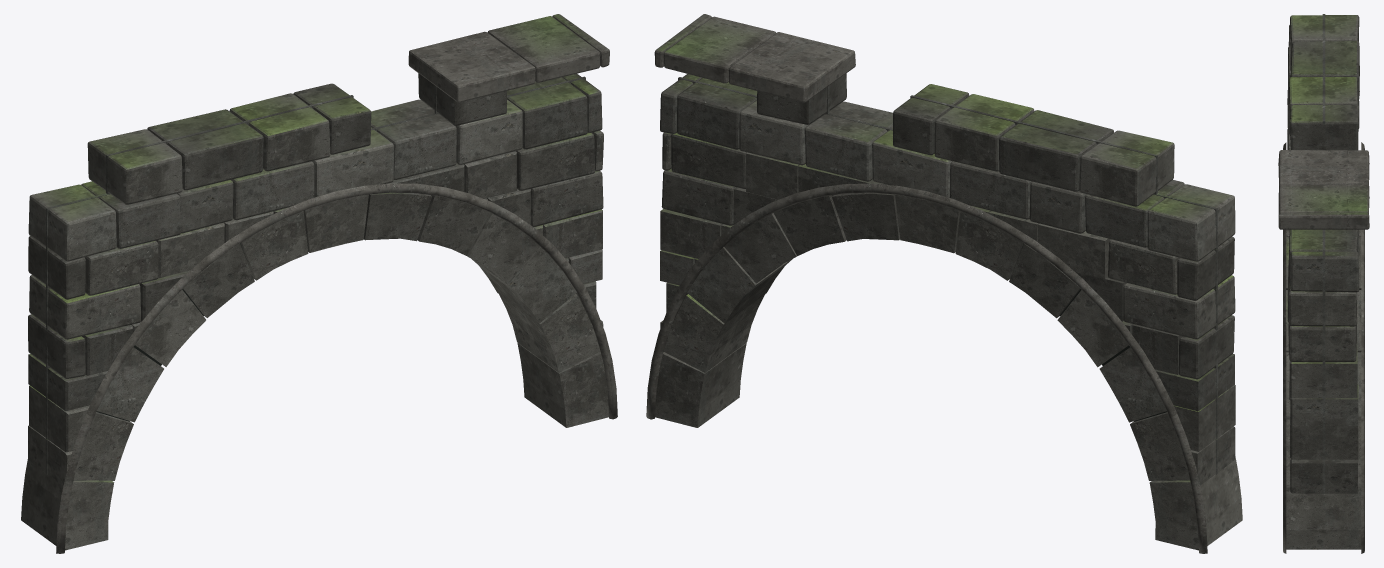
The model's file is ER_Ecoincon_Grand_Arc_8m.gltf.
3 views of the same model, side by side, from view 1: azimuth 30°, elevation 25°; view 2: azimuth 150°, elevation 25°; view 3: azimuth 270°, elevation 25° (orthographic). The views are drawn at different scales.
Parts seen in each view (by area): view 1: ER_Ecoincon_Grand_Arc_8m_P.001, ER_Ecoincon_Grand_Arc_8m_MOUL.001, ER_Ecoincon_Grand_Arc_8m_PS.001; view 2: ER_Ecoincon_Grand_Arc_8m_P.001, ER_Ecoincon_Grand_Arc_8m_MOUL.001, ER_Ecoincon_Grand_Arc_8m_PS.001; view 3: ER_Ecoincon_Grand_Arc_8m_P.001, ER_Ecoincon_Grand_Arc_8m_MOUL.001, ER_Ecoincon_Grand_Arc_8m_PS.001.
Part boxes in pixels (box(x1,y1,x2,y2)): ER_Ecoincon_Grand_Arc_8m_P.001: box(21, 73, 608, 550); ER_Ecoincon_Grand_Arc_8m_MOUL.001: box(56, 14, 617, 553); ER_Ecoincon_Grand_Arc_8m_PS.001: box(46, 76, 585, 474); ER_Ecoincon_Grand_Arc_8m_P.001: box(655, 73, 1242, 550); ER_Ecoincon_Grand_Arc_8m_MOUL.001: box(646, 14, 1207, 553); ER_Ecoincon_Grand_Arc_8m_PS.001: box(678, 77, 1217, 474); ER_Ecoincon_Grand_Arc_8m_P.001: box(1286, 15, 1361, 549); ER_Ecoincon_Grand_Arc_8m_MOUL.001: box(1278, 142, 1369, 553); ER_Ecoincon_Grand_Arc_8m_PS.001: box(1322, 14, 1325, 493).
Bounding box in the file's own units: 8.34 × 5.29 × 1.31.
4 materials, 3 textured.
